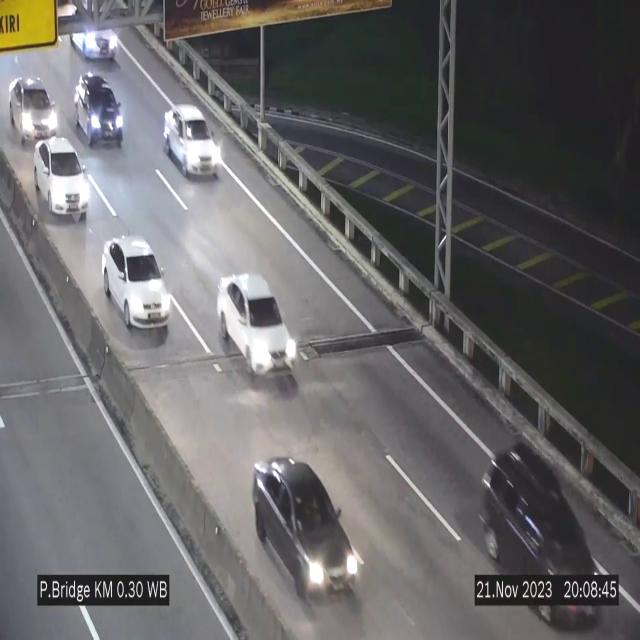Car: (251, 451, 360, 598), (217, 274, 296, 376), (102, 235, 172, 335), (34, 134, 90, 217), (6, 63, 57, 145), (164, 105, 220, 177), (74, 70, 124, 150)
